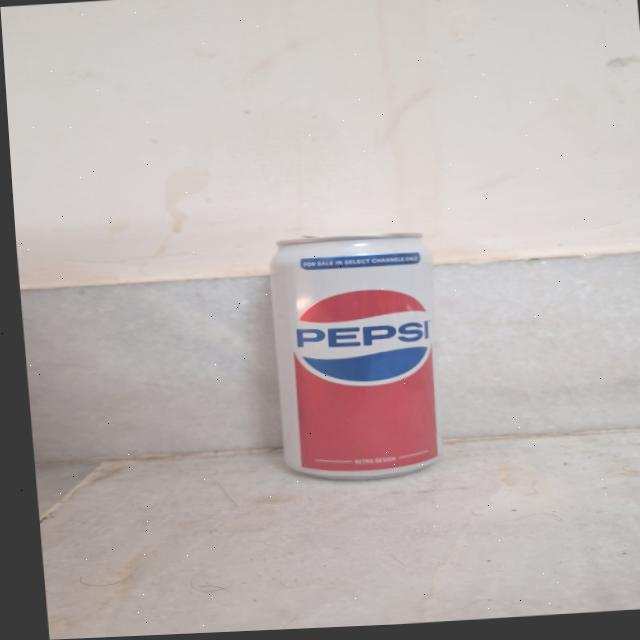Pepsi Retro: (240, 221, 465, 485)
